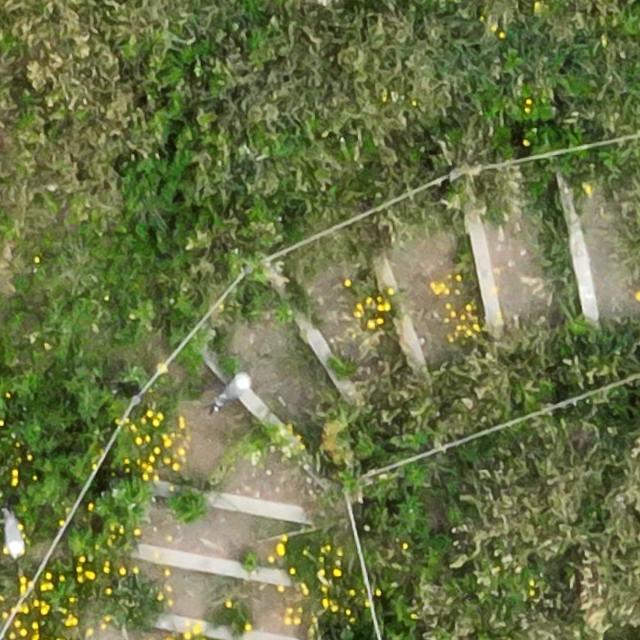umineko: (220, 373, 251, 407), (6, 513, 26, 558)
